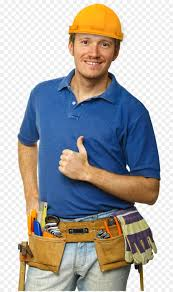Person_wearing_helmet: (59, 2, 128, 50)
